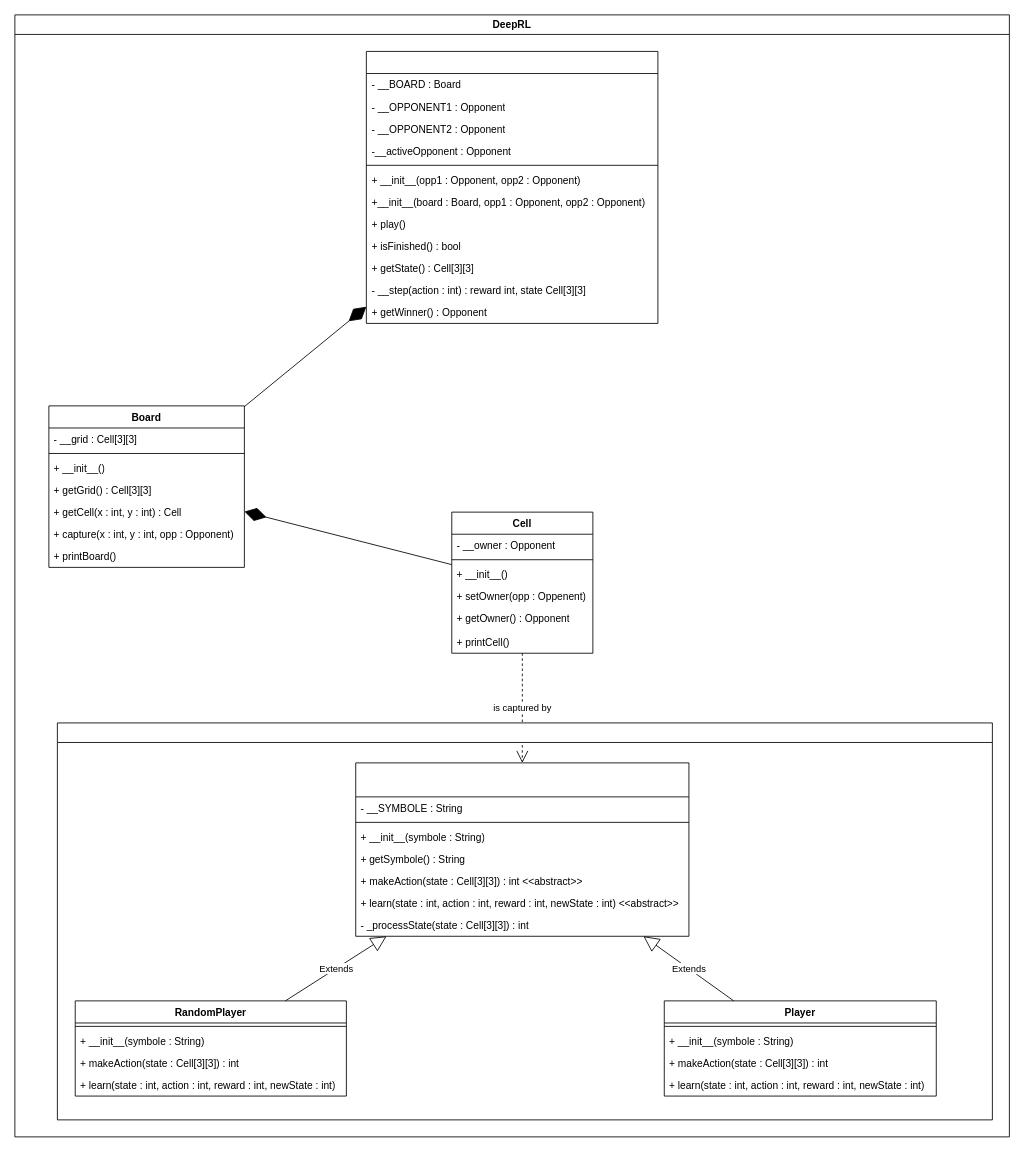
This 1024x1152 diagram has some shape labels left out. Here are the shapes that lost their labels. From the top down, the box of each, then its label:
(366, 51, 658, 323): Game
(355, 762, 689, 936): <<abstract>> Opponent
(57, 722, 992, 1120): DeepRL.opponent
